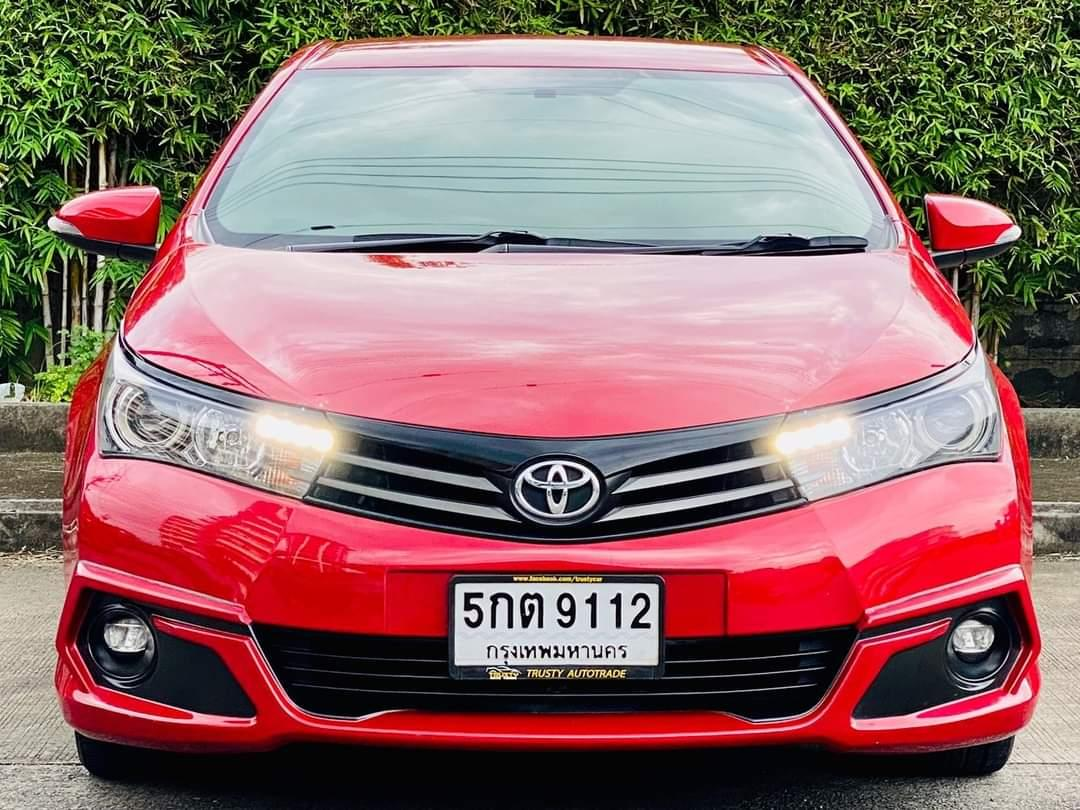license-plate: (443, 568, 670, 687)
